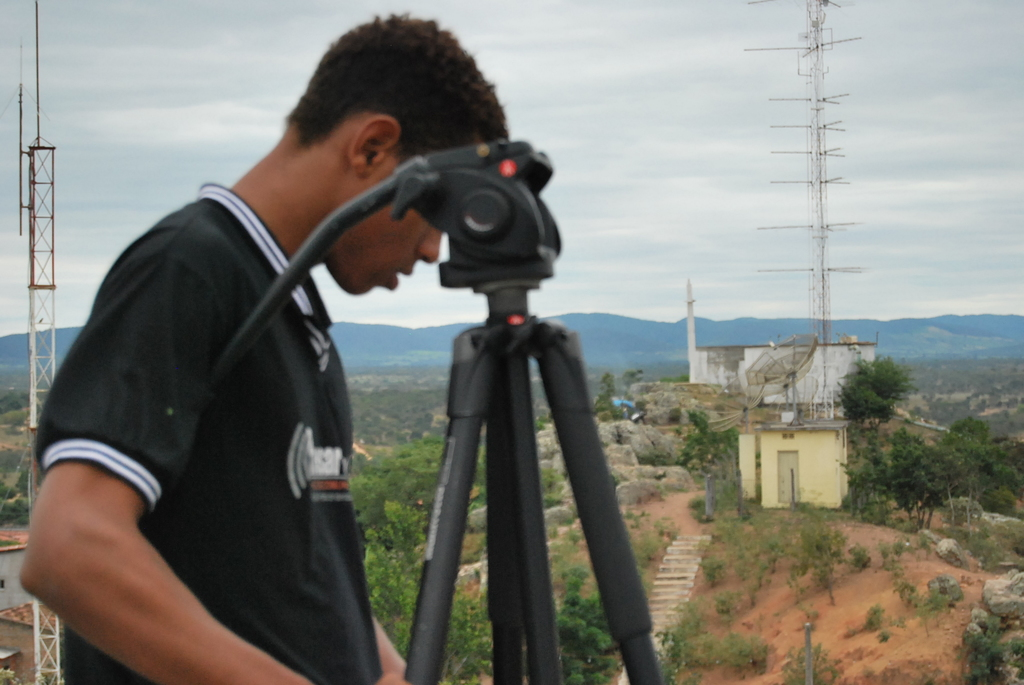Person: (17, 10, 510, 685)
